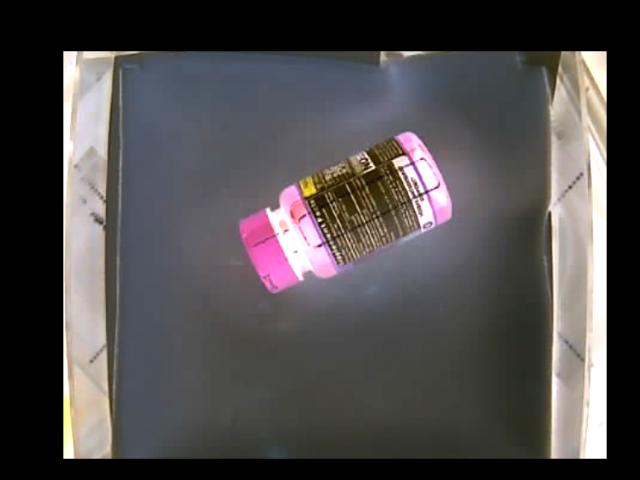Bottle: (240, 129, 453, 300)
